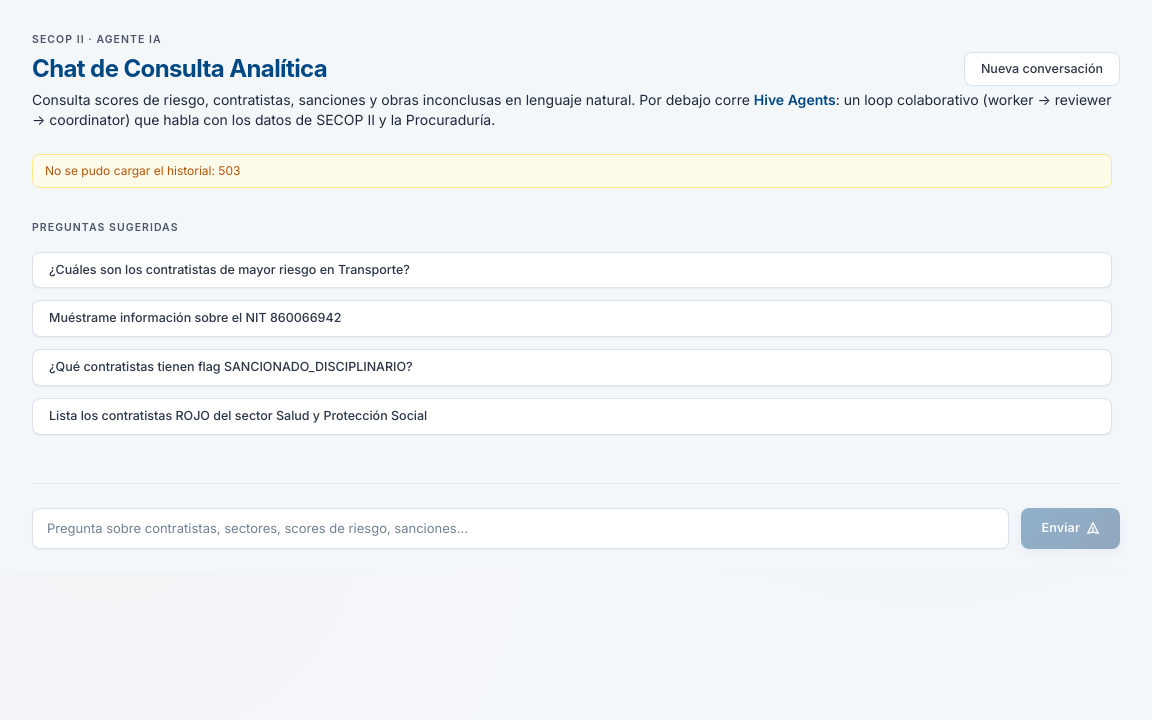
Scenario: ChatPage: markdown, reasoning y datos › muestra error si /api/chat falla
Replace the text in the field with placeholder "Pregunta sobre contratistas" with "hola": (521, 528) [32, 508, 1010, 549]
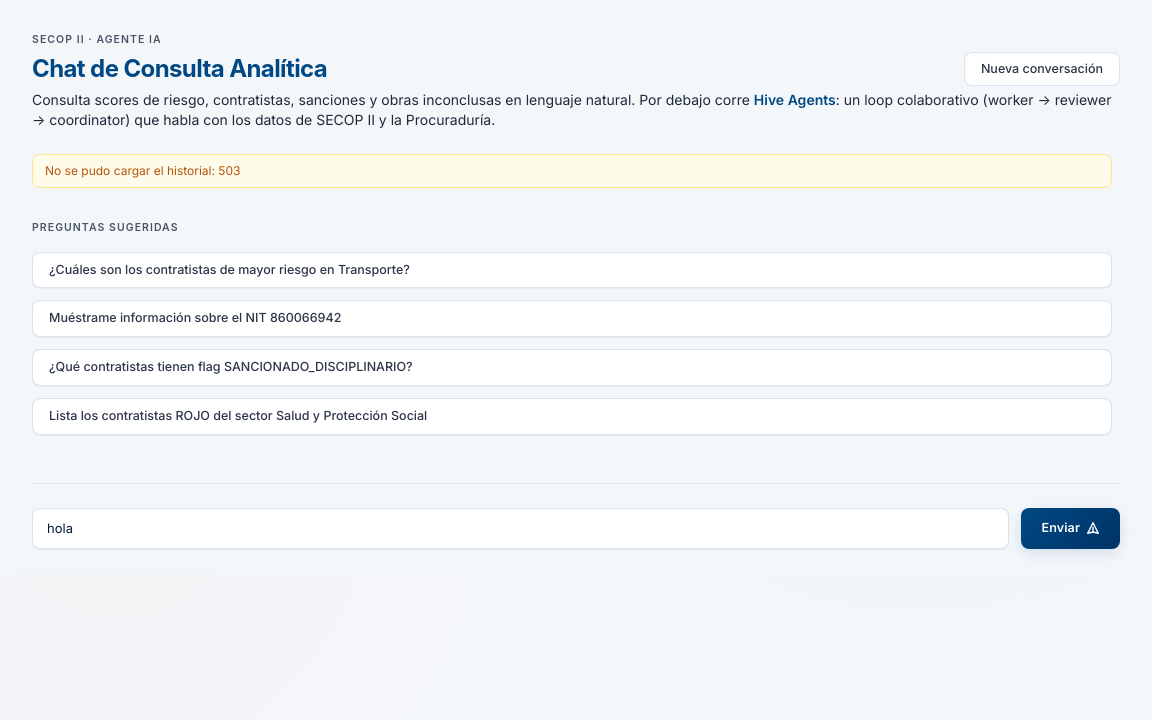
Click the button "Enviar": (1071, 528) [1022, 508, 1120, 549]
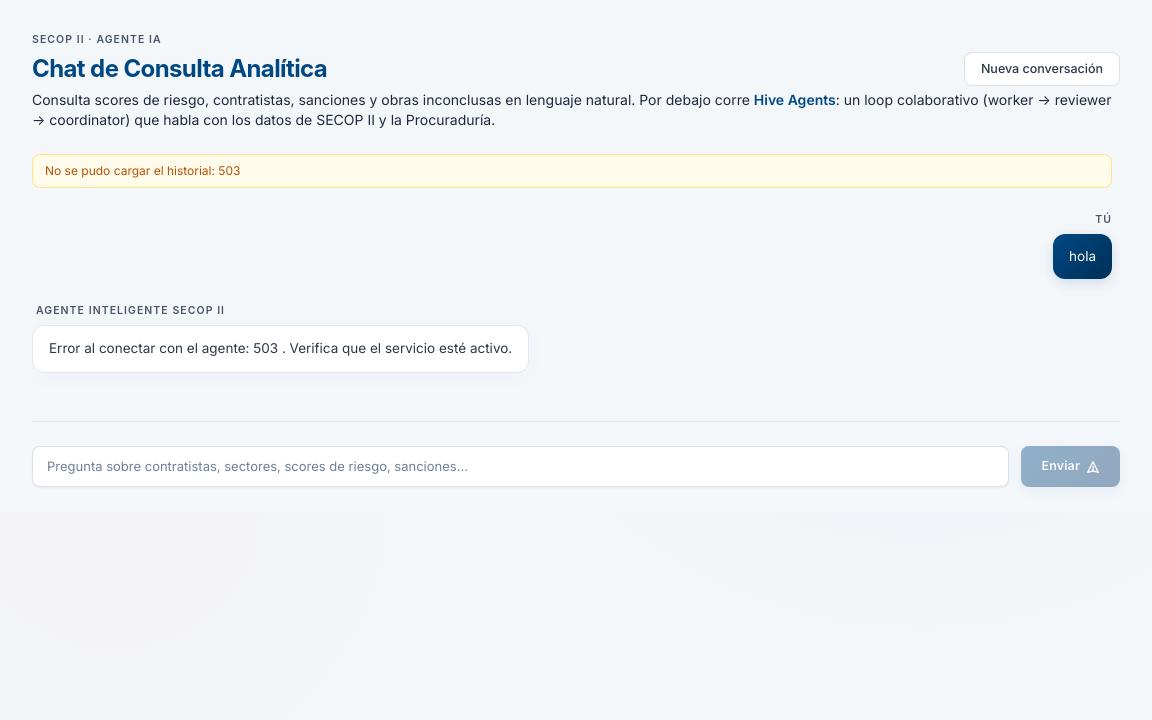
Expected: the text "Error al conectar con el agente" is shown, [49, 340, 512, 356]
